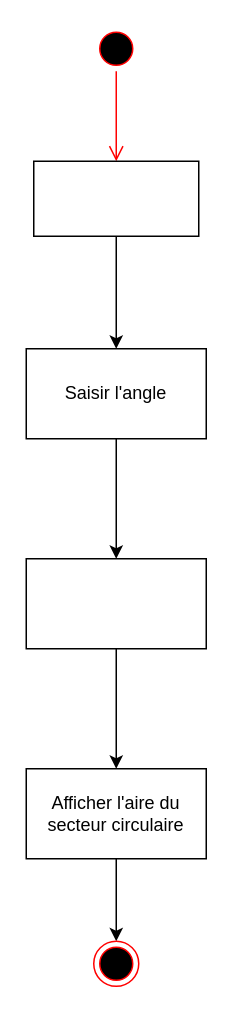
The diagram is 233 pixels wide and 1013 high, and some of its shapes have lost their labels. Here are the shapes that lost their labels. From the top down, the box of each, then its label:
(32, 160, 199, 236): Saisir le rayon
(25, 557, 206, 649): Calcul de l'aire de secteur circulaire (Pi*rayon^2*angle)
